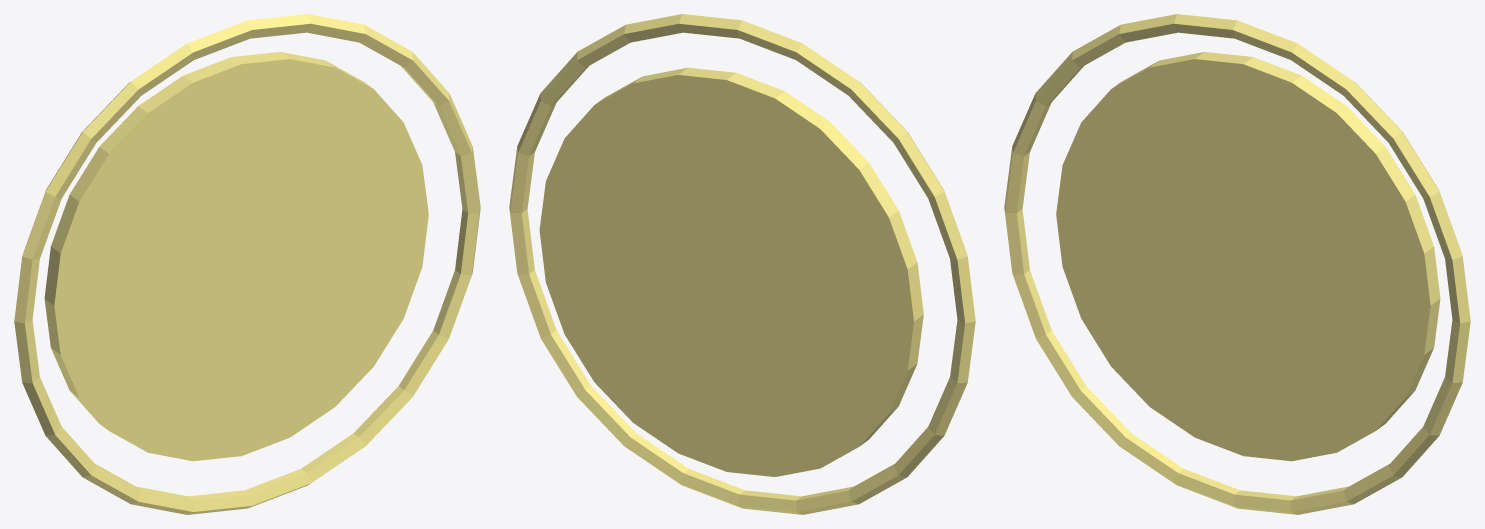
File: rarity_base_mythic.glb
3 renders of one model, left to right at view 1: azimuth 30°, elevation 25°; view 2: azimuth 150°, elevation 25°; view 3: azimuth 330°, elevation 25°, orthographic.
Parts seen in each view (by area): view 1: base_disc, outer_ring; view 2: base_disc, outer_ring; view 3: base_disc, outer_ring.
Boxes of the visible parts, x1,y1,x2,y2 form: base_disc: [44, 52, 428, 461]; outer_ring: [14, 14, 480, 514]; base_disc: [539, 67, 923, 476]; outer_ring: [509, 14, 975, 514]; base_disc: [1056, 52, 1440, 461]; outer_ring: [1004, 14, 1470, 514].
Size of the model in its own units: 1.37 by 1.37 by 0.1038.
